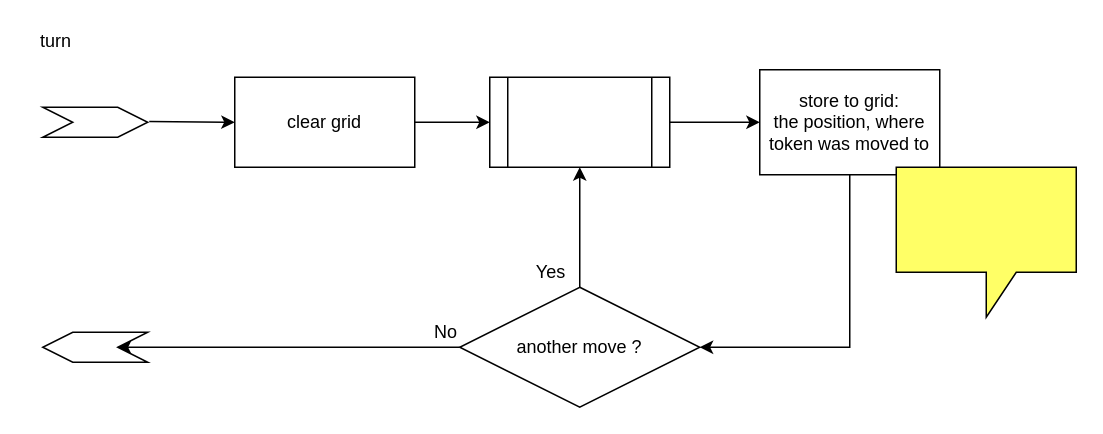
This 1103x434 diagram has some shape labels left out. The centre of each missing label's shape, as x and y in pixels:
move: point (579, 121)
TODO: what about the initial positon in the first move?: point (985, 241)
